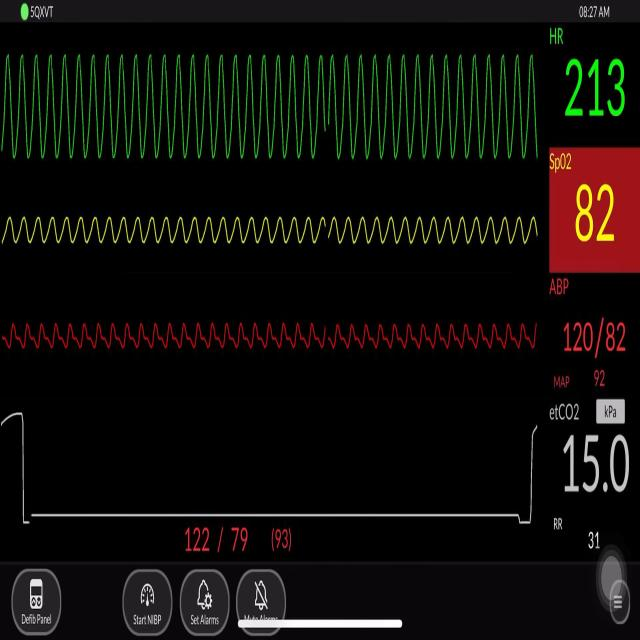danger: (0, 39, 538, 178)
